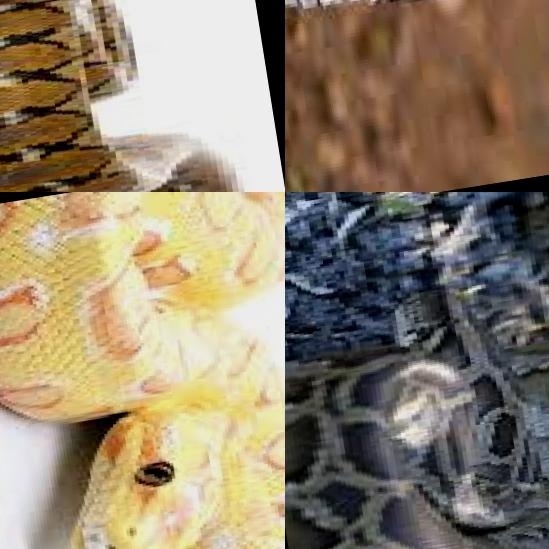1: (285, 0, 549, 192)
3: (0, 0, 285, 192)
snake: (0, 192, 285, 549), (285, 192, 549, 549)
